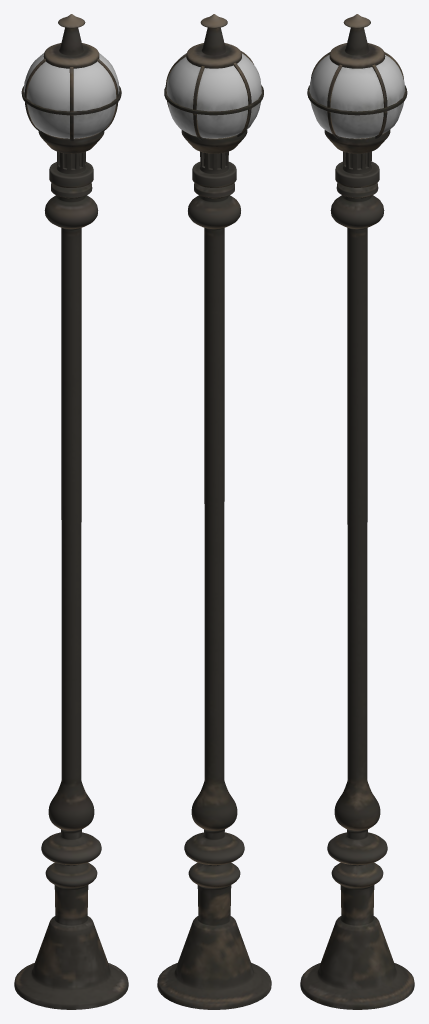
Rendered from poste1.fbx.
3 renders of one model, left to right at view 1: azimuth 90°, elevation 25°; view 2: azimuth 210°, elevation 25°; view 3: azimuth 270°, elevation 25°, orthographic.
Visible parts, largest first — view 1: Street Lamp.Shape; view 2: Street Lamp.Shape; view 3: Street Lamp.Shape.
Boxes of the visible parts, <box> form: Street Lamp.Shape: <box>14,14,128,1009</box>; Street Lamp.Shape: <box>157,14,271,1009</box>; Street Lamp.Shape: <box>300,14,414,1009</box>.
Bounding box in the file's own units: 40.78 × 383 × 40.78.
Materials: 2 (2 with a texture image).
